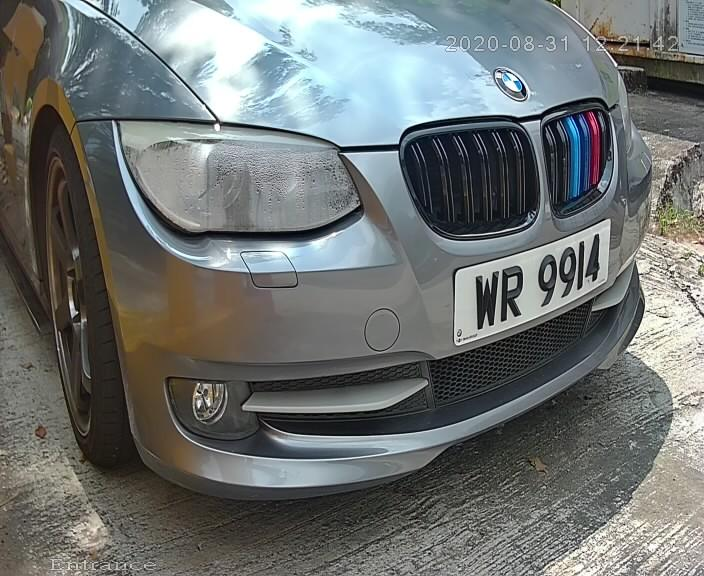License Plate: (450, 214, 607, 350)
